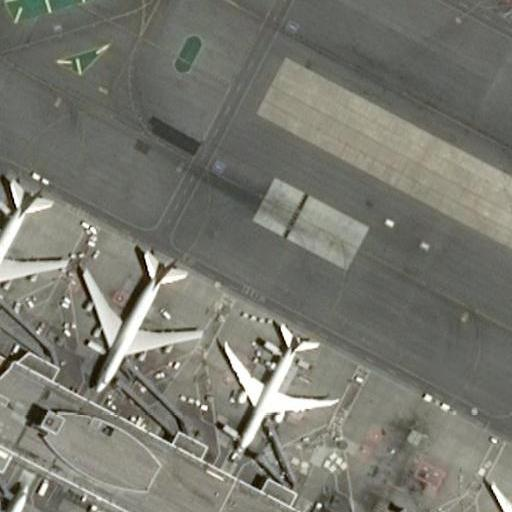Aircraft: (70, 242, 199, 394), (213, 313, 334, 461), (0, 167, 60, 311), (477, 441, 512, 512), (1, 466, 46, 512)
